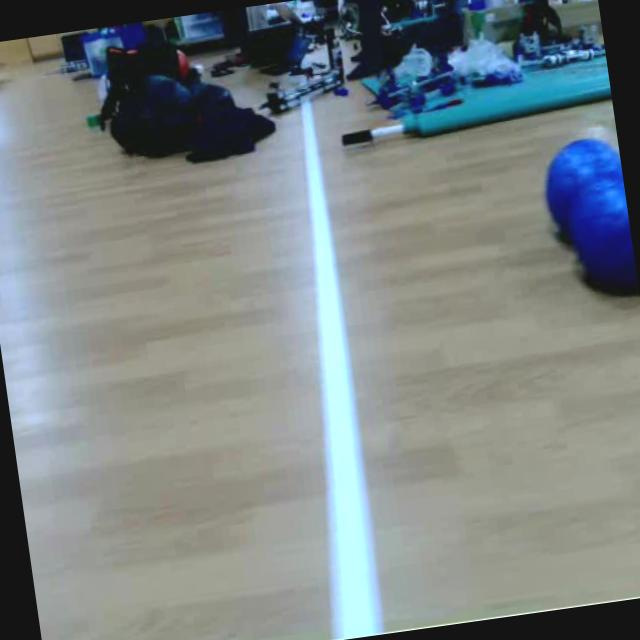blue_ball: (538, 132, 632, 252), (564, 166, 638, 289)
